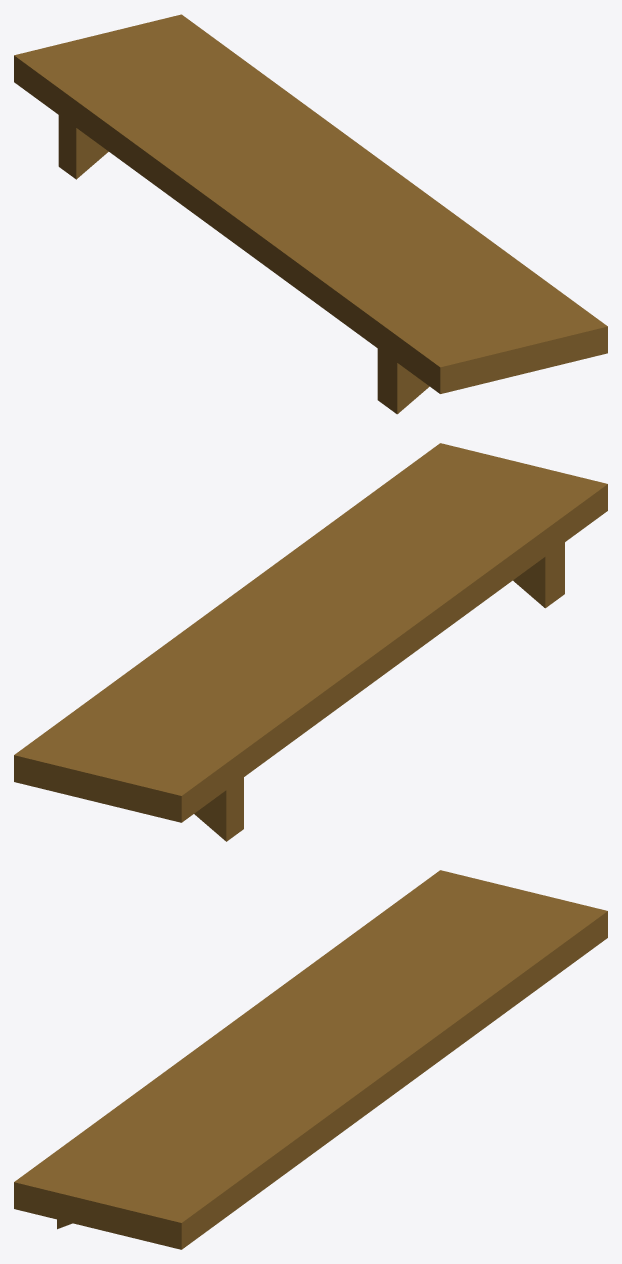
The model's file is PlankOpMuur.fbx.
The picture shows the model from 3 angles, top to bottom: view 1: azimuth 30°, elevation 25°; view 2: azimuth 150°, elevation 25°; view 3: azimuth 330°, elevation 25°; orthographic projection.
Parts seen in each view (by area): view 1: Cube; view 2: Cube; view 3: Cube.
Part boxes in pixels (x1,y1,x2,y2): Cube: [14, 14, 607, 414]; Cube: [14, 443, 607, 841]; Cube: [14, 870, 607, 1249].
Size of the model in its own units: 99.97 by 44.83 by 440.
